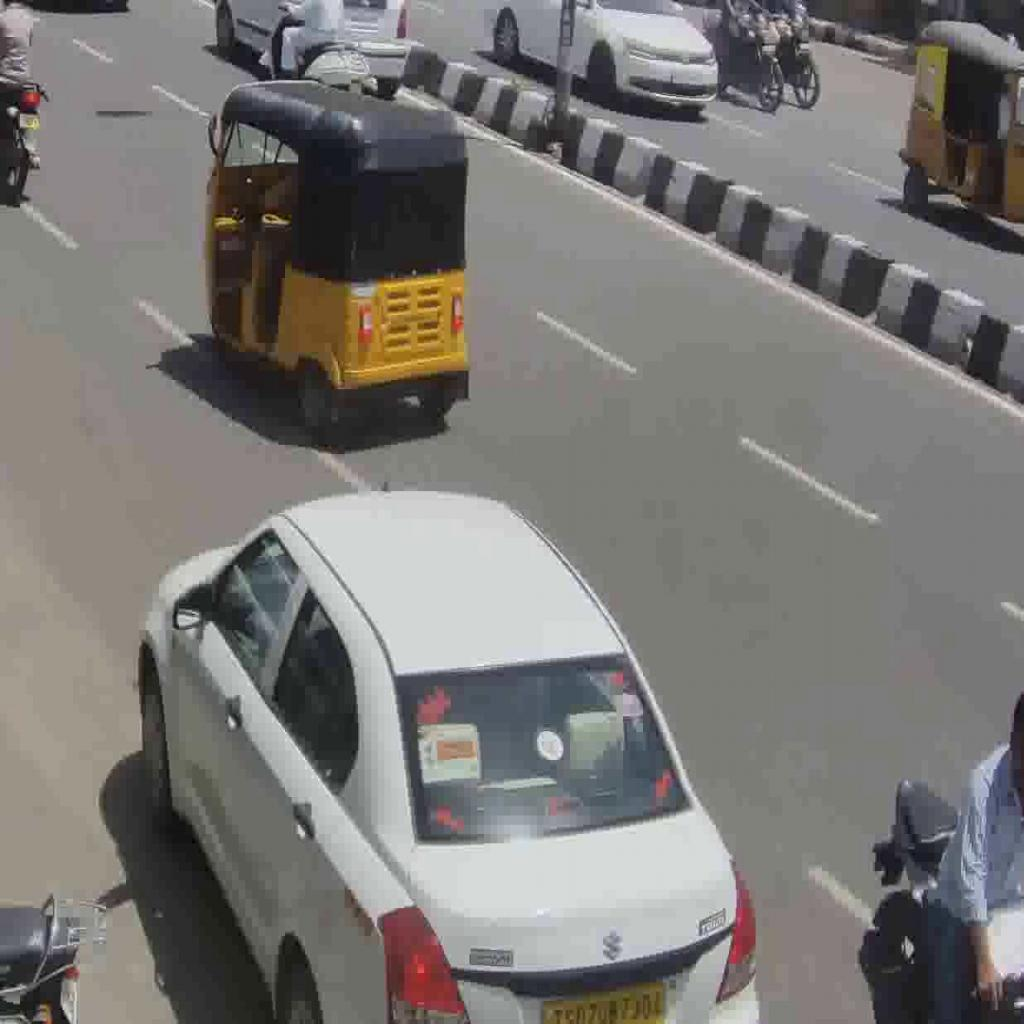bike: (258, 1, 380, 93), (0, 81, 48, 207)
lisc: (18, 112, 41, 130)
noise: (700, 0, 820, 108)
